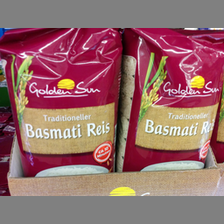rice: (1, 28, 123, 177), (115, 28, 224, 172)
